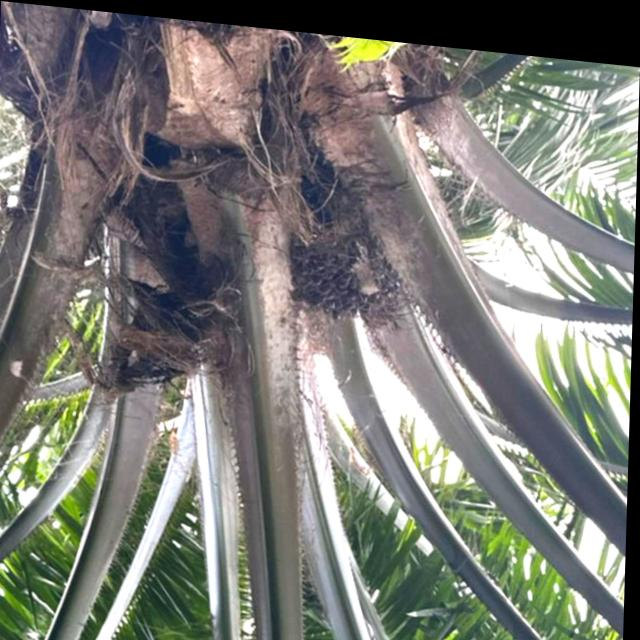ripe: (269, 211, 419, 327)
